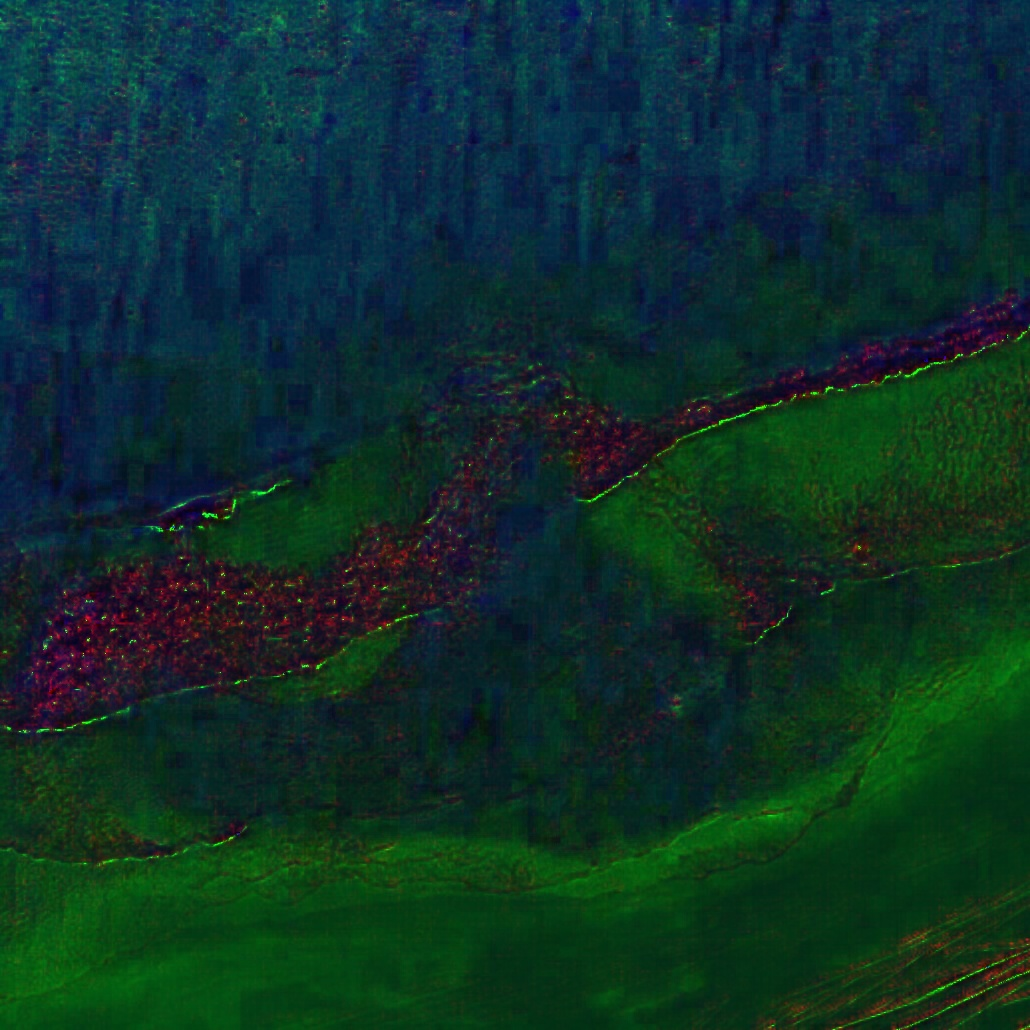rip_current: (366, 251, 660, 674)
